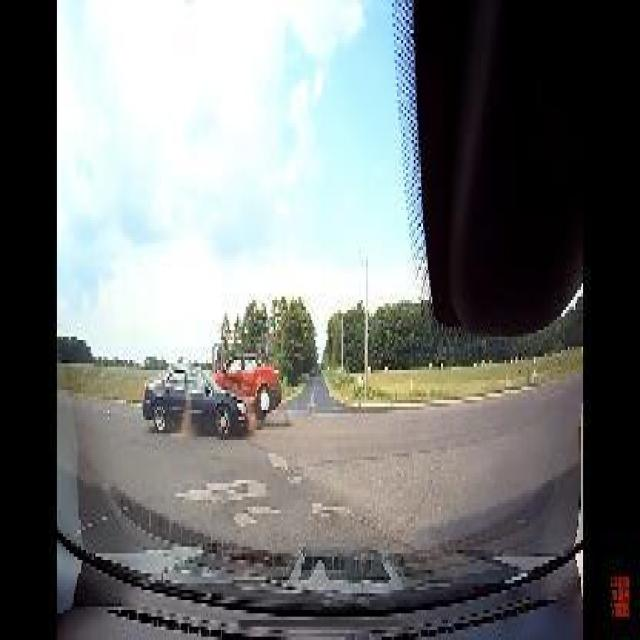accident: (132, 327, 297, 450)
